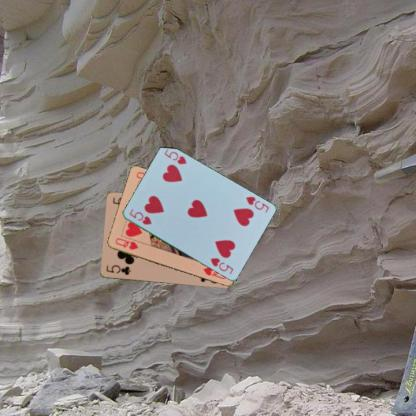5c: (103, 262, 132, 276)
5h: (243, 193, 270, 214), (126, 207, 152, 226)
Qh: (113, 235, 139, 251)
